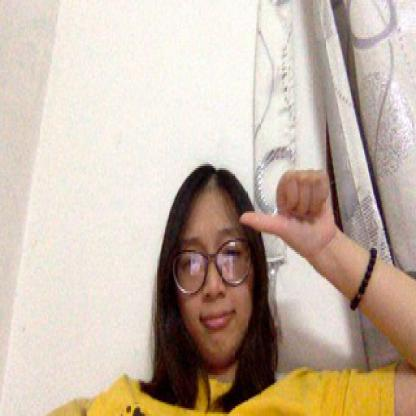right: (238, 156, 331, 256)
